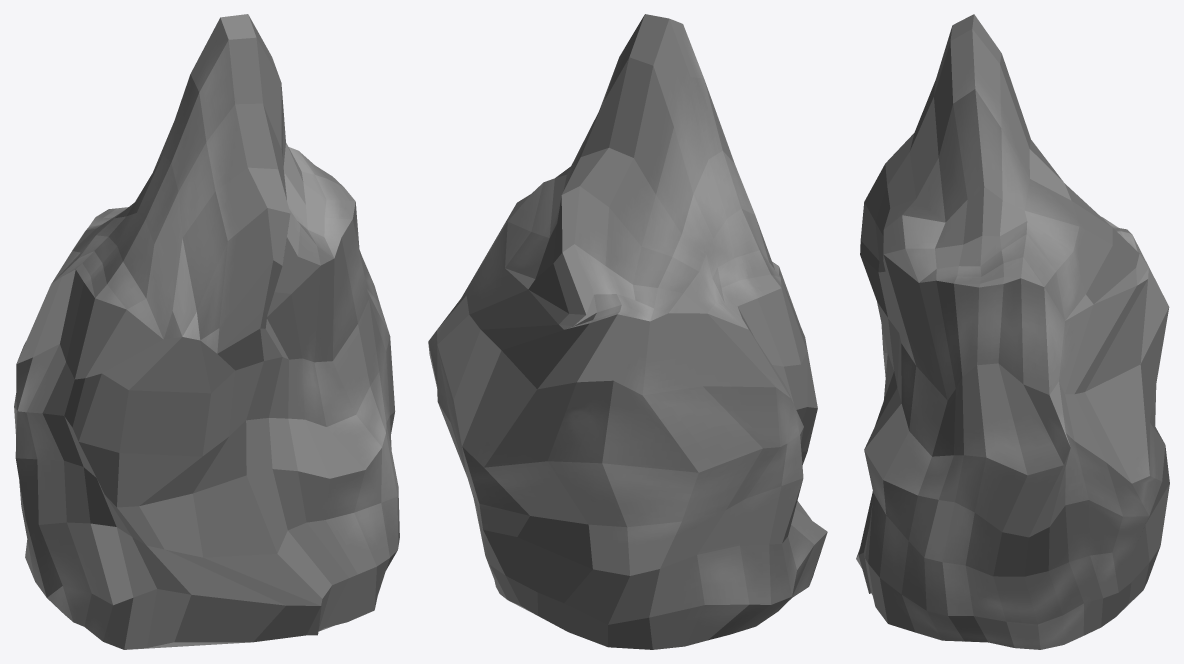
Rendered from piedra4.glb.
3 renders of one model, left to right at view 1: azimuth 30°, elevation 25°; view 2: azimuth 150°, elevation 25°; view 3: azimuth 270°, elevation 25°, orthographic. The views are drawn at different scales.
Parts seen in each view (by area): view 1: piedra 4; view 2: piedra 4; view 3: piedra 4.
Part boxes in pixels (left/top/right/bottom): piedra 4: left=14, top=14, right=399, bottom=649; piedra 4: left=428, top=14, right=827, bottom=649; piedra 4: left=856, top=14, right=1169, bottom=649.
Size of what is drawn, in the model's own units: 2 by 3 by 1.5.
Materials: 1 (1 with a texture image).
